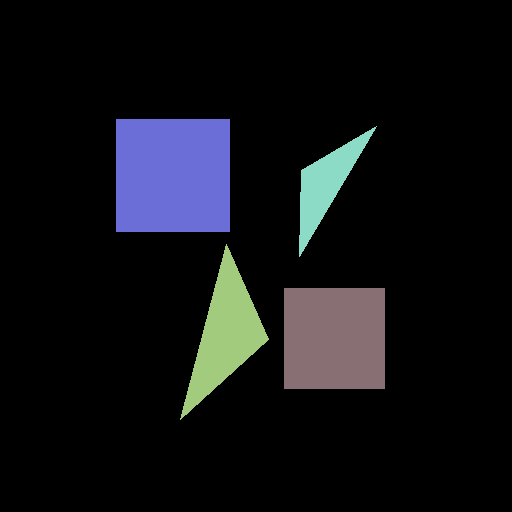square: (116, 119, 229, 231), (284, 288, 384, 388)
triangle: (180, 244, 268, 419), (299, 126, 376, 256)
